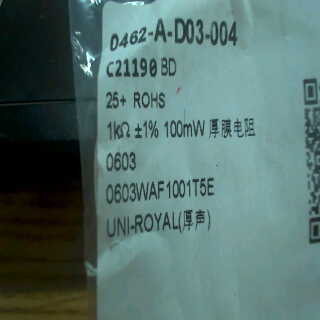1kR: (102, 117, 132, 144)
